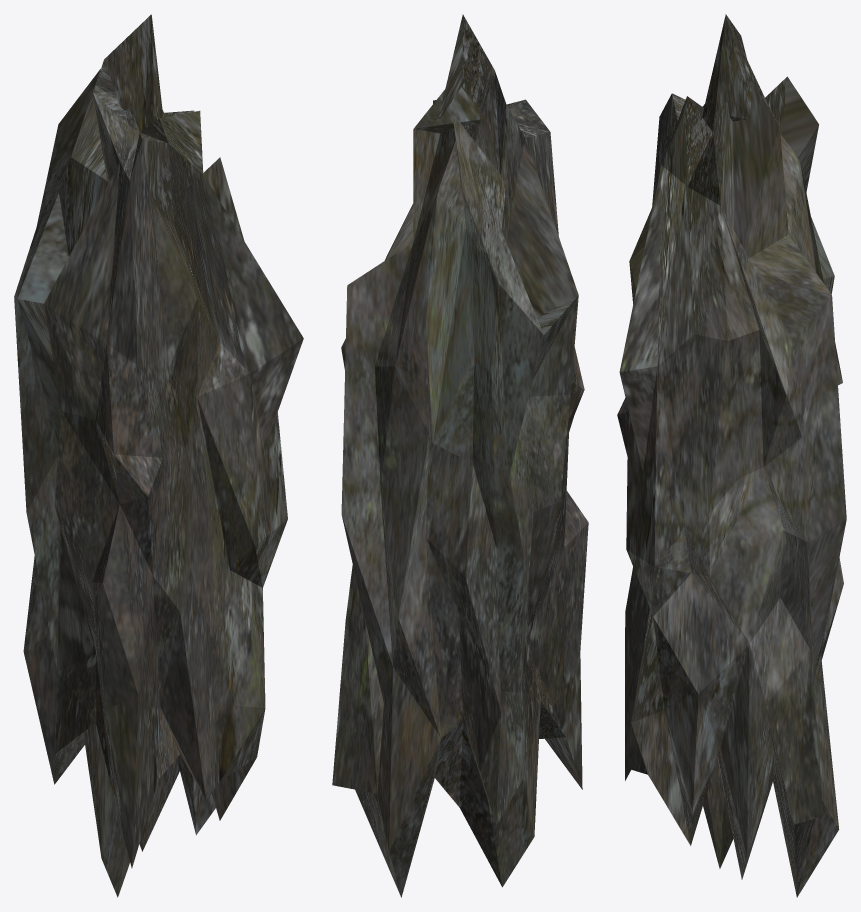
File: rockpillar1.fbx
3 views of the same model, side by side, from view 1: azimuth 30°, elevation 25°; view 2: azimuth 150°, elevation 25°; view 3: azimuth 270°, elevation 25° (orthographic).
Parts seen in each view (by area): view 1: Cube; view 2: Cube; view 3: Cube.
Part boxes in pixels (left/top/right/bottom): Cube: left=14, top=14, right=303, bottom=897; Cube: left=332, top=14, right=588, bottom=897; Cube: left=617, top=14, right=846, bottom=897.
Size of the model in its own units: 276 by 1082 by 258.
1 material, 1 textured.
